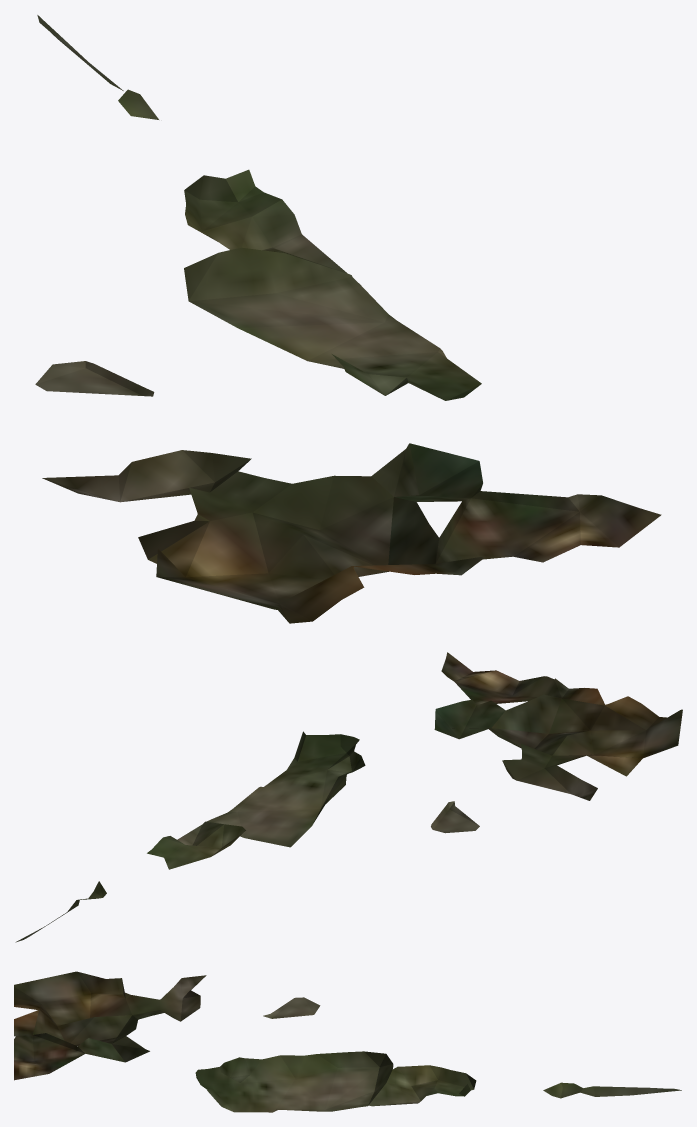
The picture shows the model from 3 angles, top to bottom: view 1: azimuth 30°, elevation 25°; view 2: azimuth 150°, elevation 25°; view 3: azimuth 270°, elevation 25°; orthographic projection. The views are drawn at different scales.
Bounding box in the file's own units: 0.7072 × 0.0615 × 1.68.
Materials: 1 (1 with a texture image).
